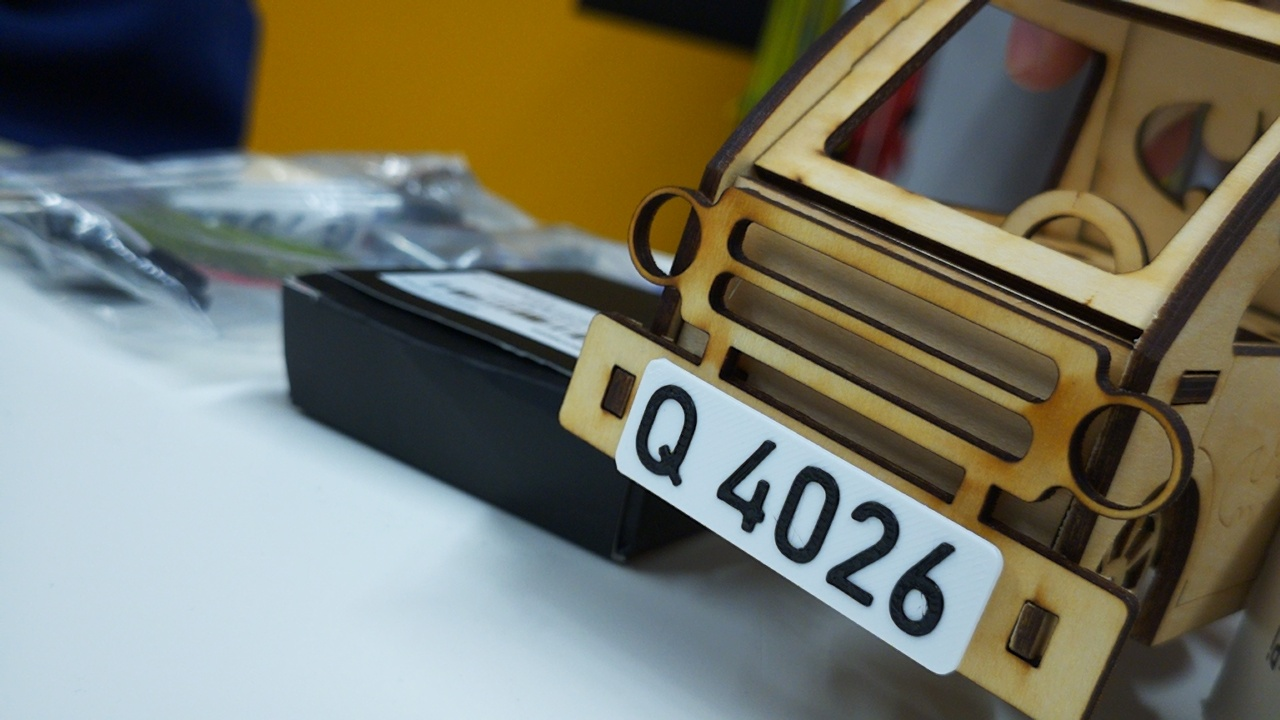license_plate: (612, 356, 1009, 677)
